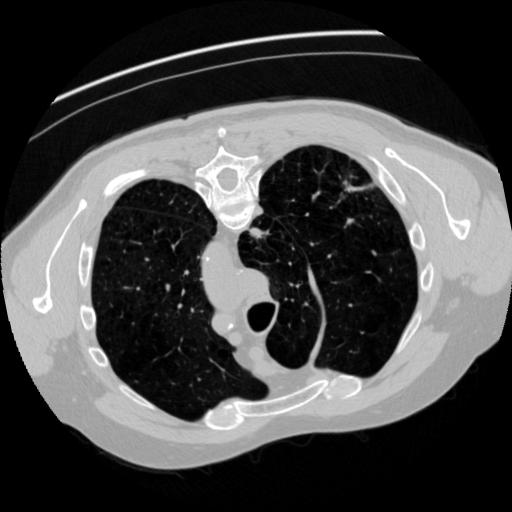nodule: (246, 223, 269, 246)
